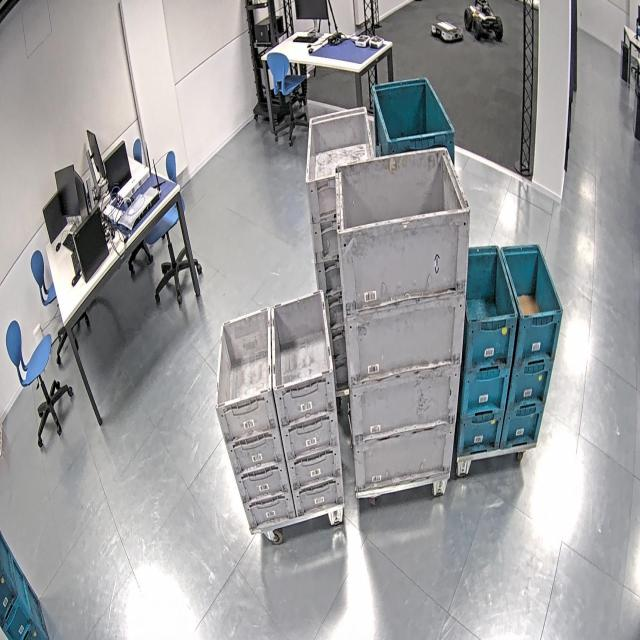Box3G: (304, 104, 378, 395)
Box4G: (334, 145, 472, 498)
Box8G: (212, 287, 346, 536)
BoxB4: (370, 72, 456, 412)
BoxB8: (448, 240, 564, 460)
